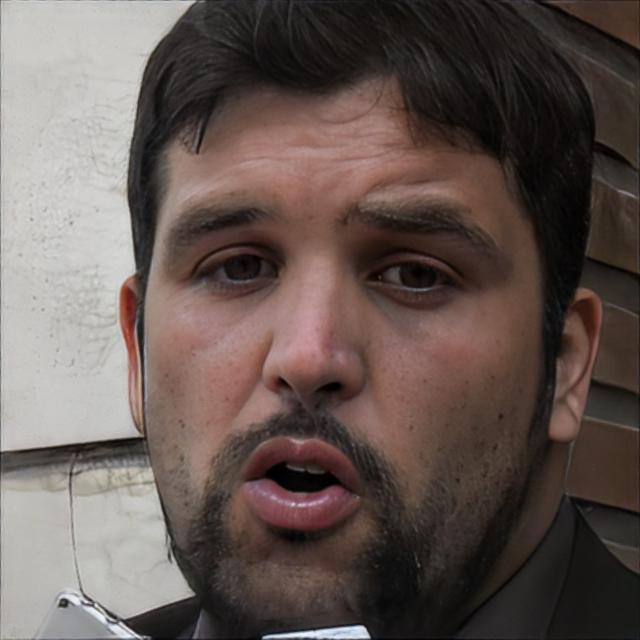sad: (142, 69, 545, 634)
